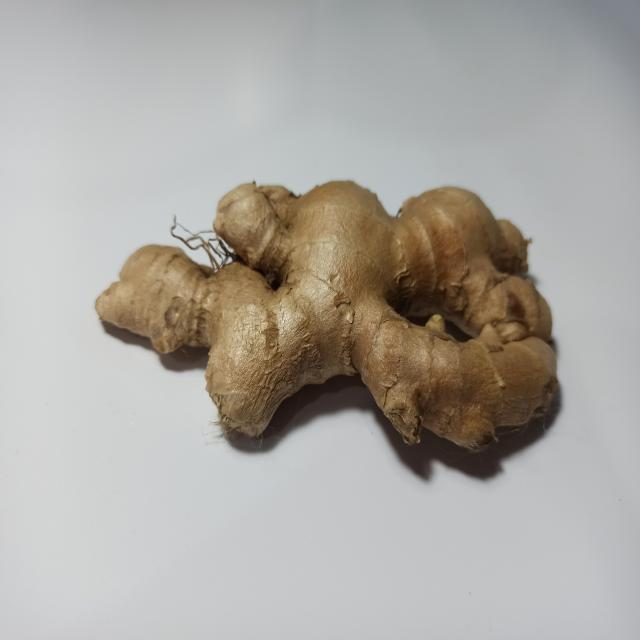ginger: (101, 172, 546, 448)
